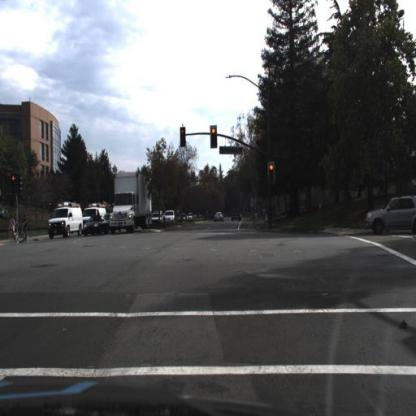biker: (9, 218, 17, 246), (23, 215, 28, 242)
car: (365, 194, 416, 238), (84, 215, 108, 235), (162, 209, 177, 224), (152, 213, 166, 228)
trafficLight-Red: (210, 125, 220, 152), (268, 161, 278, 188)
trafficLight-RedLeft: (10, 172, 20, 197), (180, 125, 188, 150)
truck: (111, 174, 152, 235), (51, 204, 85, 239), (83, 205, 106, 229)
